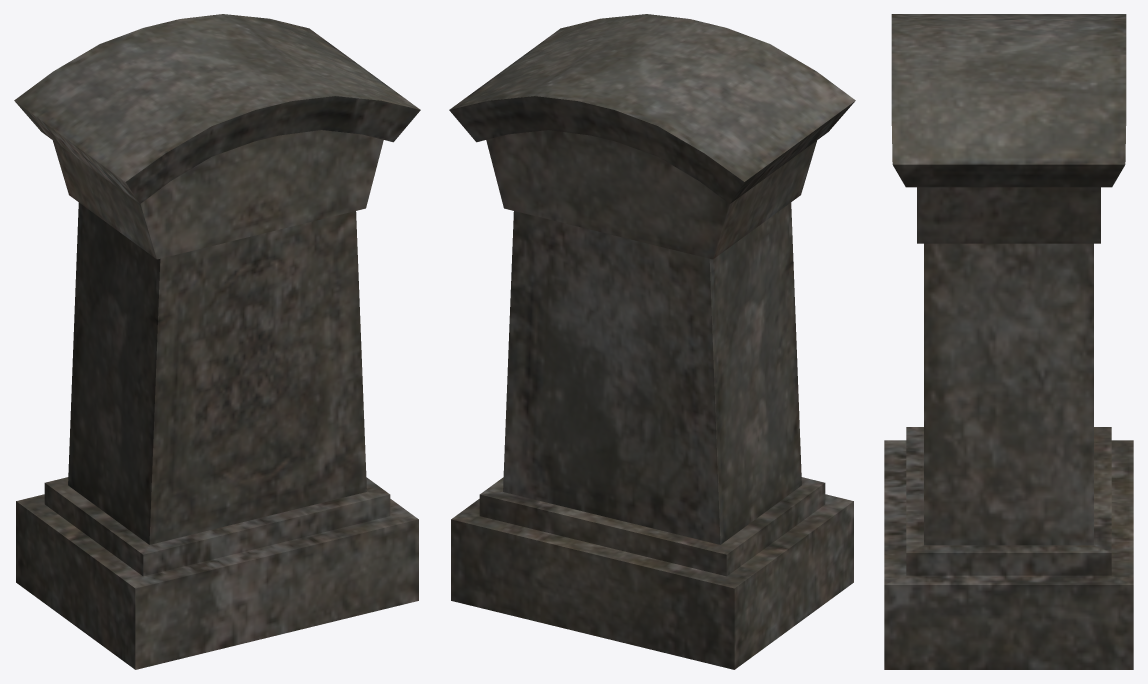
Rendered from Grave_11_sm.fbx.
3 renders of one model, left to right at view 1: azimuth 30°, elevation 25°; view 2: azimuth 150°, elevation 25°; view 3: azimuth 270°, elevation 25°, orthographic. The views are drawn at different scales.
Parts seen in each view (by area): view 1: polySurface2475; view 2: polySurface2475; view 3: polySurface2475.
Boxes of the visible parts, x1,y1,x2,y2 form: polySurface2475: (14,14,420,669); polySurface2475: (449,14,855,669); polySurface2475: (884,14,1133,669).
Bounding box in the file's own units: 0.8161 × 1.39 × 0.5712.
